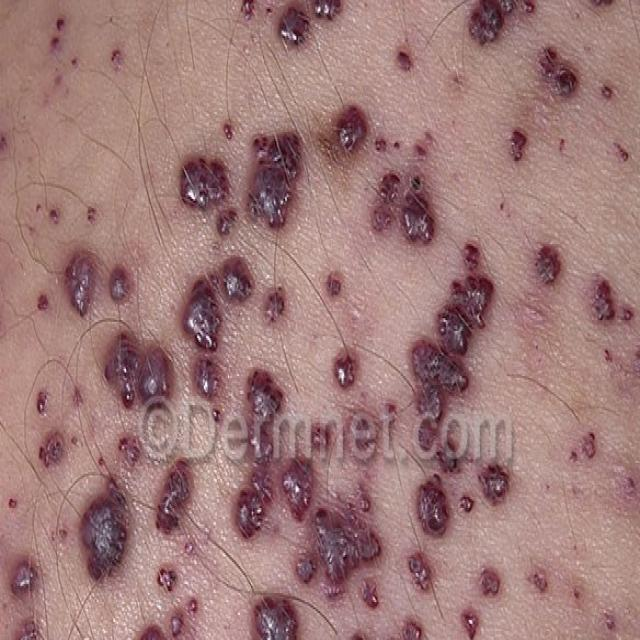Vascular Tumors: (541, 181, 640, 584), (537, 30, 611, 125)
